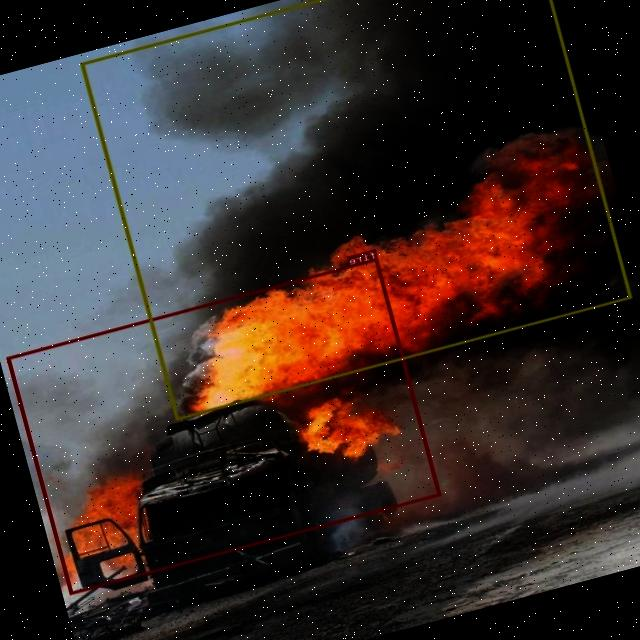fire: (7, 256, 442, 594)
smoke: (80, 0, 633, 419)
